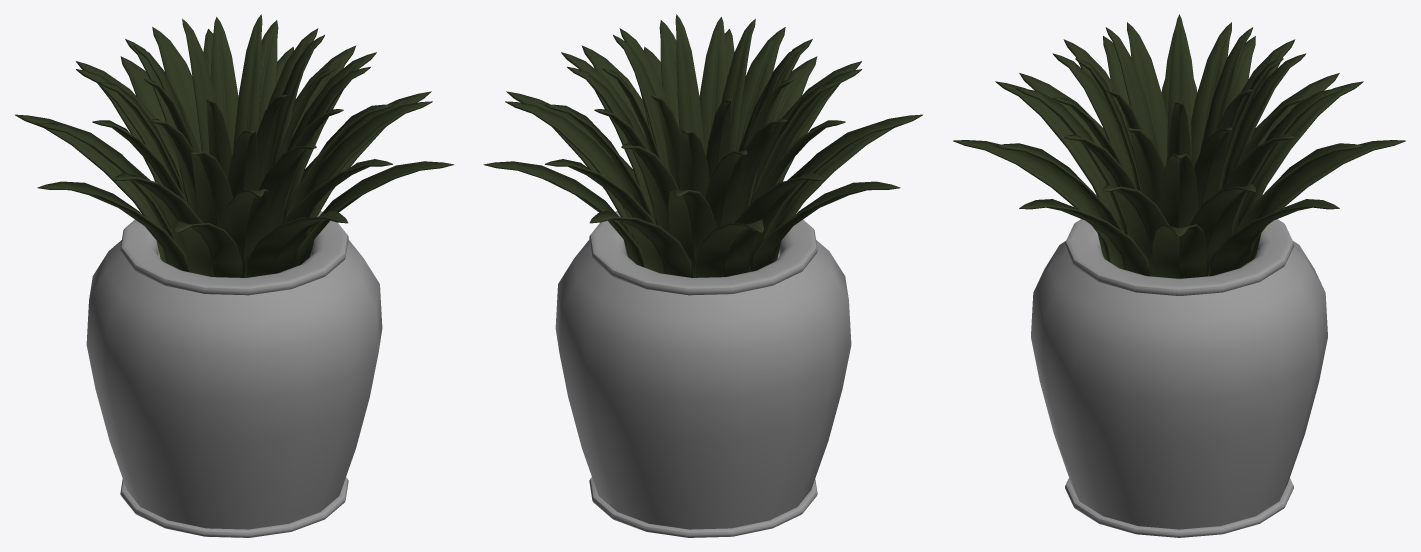
File: med plant.fbx
The picture shows the model from 3 angles, left to right: view 1: azimuth 30°, elevation 25°; view 2: azimuth 150°, elevation 25°; view 3: azimuth 270°, elevation 25°; orthographic projection.
Visible parts, largest first — view 1: Cylinder006; view 2: Cylinder006; view 3: Cylinder006.
Part boxes in pixels (x1=…): Cylinder006: x1=15, y1=14, x2=454, y2=537; Cylinder006: x1=483, y1=14, x2=922, y2=537; Cylinder006: x1=953, y1=14, x2=1405, y2=537.
Bounding box in the file's own units: 224 × 235 × 224.
